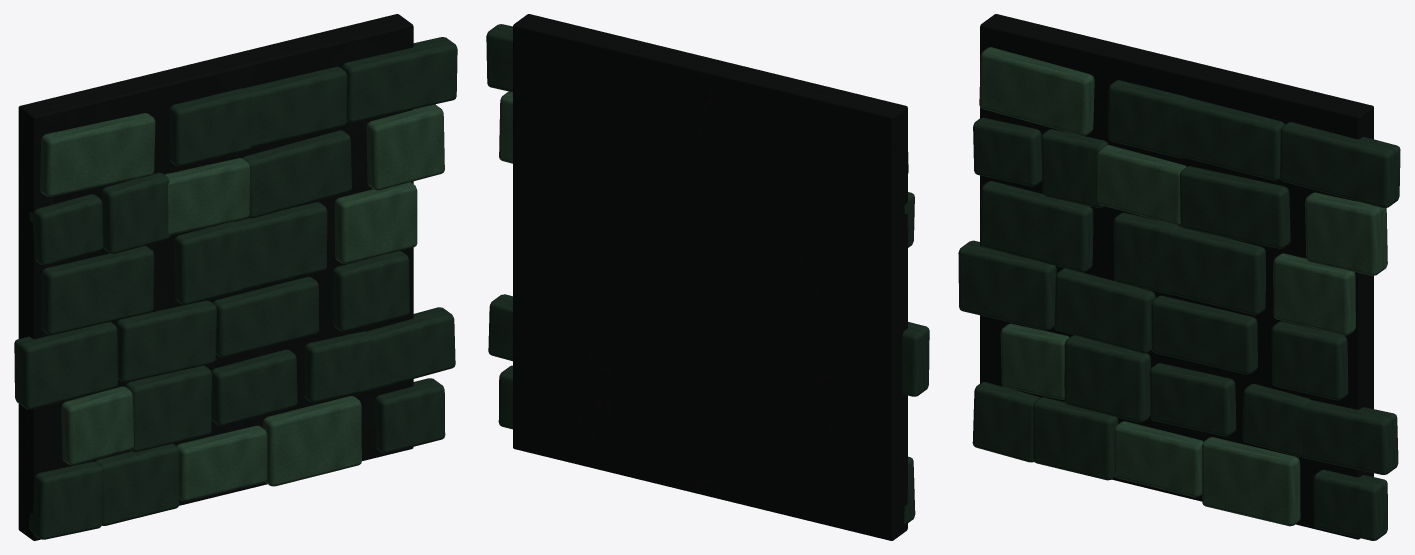
File: 06_Modular_StoneWall_Straight.fbx
The picture shows the model from 3 angles, left to right: view 1: azimuth 30°, elevation 25°; view 2: azimuth 150°, elevation 25°; view 3: azimuth 330°, elevation 25°; orthographic projection.
Visible parts, largest first — view 1: StraightWall_MortarCore.001, StraightWall_Stone_R03.004, StraightWall_Stone_R05.004, StraightWall_Stone_R02.004, StraightWall_Stone_R05.007, StraightWall_Stone_R00.008, StraightWall_Stone_R04.008, StraightWall_Stone_R02.005, StraightWall_Stone_R02.006, StraightWall_Stone_R03.006, StraightWall_Stone_R05.006, StraightWall_Stone_R01.006 (+16 smaller); view 2: StraightWall_MortarCore.001, StraightWall_Stone_R02.004, StraightWall_Stone_R05.007, StraightWall_Stone_R01.009, StraightWall_Stone_R04.009, StraightWall_Stone_R00.009; view 3: StraightWall_MortarCore.001, StraightWall_Stone_R03.004, StraightWall_Stone_R05.007, StraightWall_Stone_R05.004, StraightWall_Stone_R00.008, StraightWall_Stone_R04.008, StraightWall_Stone_R03.006, StraightWall_Stone_R02.004, StraightWall_Stone_R02.006, StraightWall_Stone_R02.005, StraightWall_Stone_R05.006, StraightWall_Stone_R01.006 (+16 smaller).
Part boxes in pixels (x1,y1,x2,y2): StraightWall_MortarCore.001: [18, 14, 413, 540]; StraightWall_Stone_R03.004: [41, 246, 154, 334]; StraightWall_Stone_R05.004: [40, 113, 155, 196]; StraightWall_Stone_R02.004: [14, 322, 117, 409]; StraightWall_Stone_R05.007: [342, 37, 457, 122]; StraightWall_Stone_R00.008: [263, 396, 361, 486]; StraightWall_Stone_R04.008: [242, 130, 351, 218]; StraightWall_Stone_R02.005: [116, 300, 216, 382]; StraightWall_Stone_R02.006: [213, 276, 319, 357]; StraightWall_Stone_R03.006: [235, 202, 327, 290]; StraightWall_Stone_R05.006: [244, 66, 347, 147]; StraightWall_Stone_R01.006: [125, 365, 211, 452]; StraightWall_MortarCore.001: [513, 14, 907, 540]; StraightWall_Stone_R02.004: [902, 322, 929, 396]; StraightWall_Stone_R05.007: [486, 24, 512, 92]; StraightWall_Stone_R01.009: [488, 294, 512, 361]; StraightWall_Stone_R04.009: [499, 91, 512, 163]; StraightWall_Stone_R00.009: [498, 365, 512, 429]; StraightWall_MortarCore.001: [980, 14, 1373, 539]; StraightWall_Stone_R03.004: [980, 181, 1093, 272]; StraightWall_Stone_R05.007: [1280, 122, 1400, 207]; StraightWall_Stone_R05.004: [979, 47, 1094, 136]; StraightWall_Stone_R00.008: [1201, 437, 1300, 526]; StraightWall_Stone_R04.008: [1180, 166, 1290, 248]; StraightWall_Stone_R03.006: [1169, 226, 1265, 315]; StraightWall_Stone_R02.004: [958, 240, 1056, 330]; StraightWall_Stone_R02.006: [1151, 295, 1257, 374]; StraightWall_Stone_R02.005: [1054, 268, 1155, 353]; StraightWall_Stone_R05.006: [1180, 98, 1284, 180]; StraightWall_Stone_R01.006: [1064, 335, 1150, 422].
Bounding box in the file's own units: 3.41 × 3.2 × 0.33.
3 materials, 3 textured.
